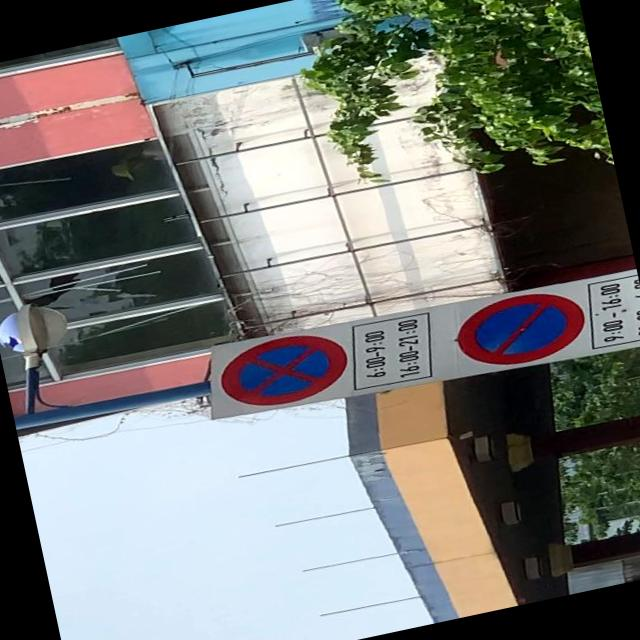P-130: (213, 324, 353, 414)
P-131a: (449, 284, 588, 372)
